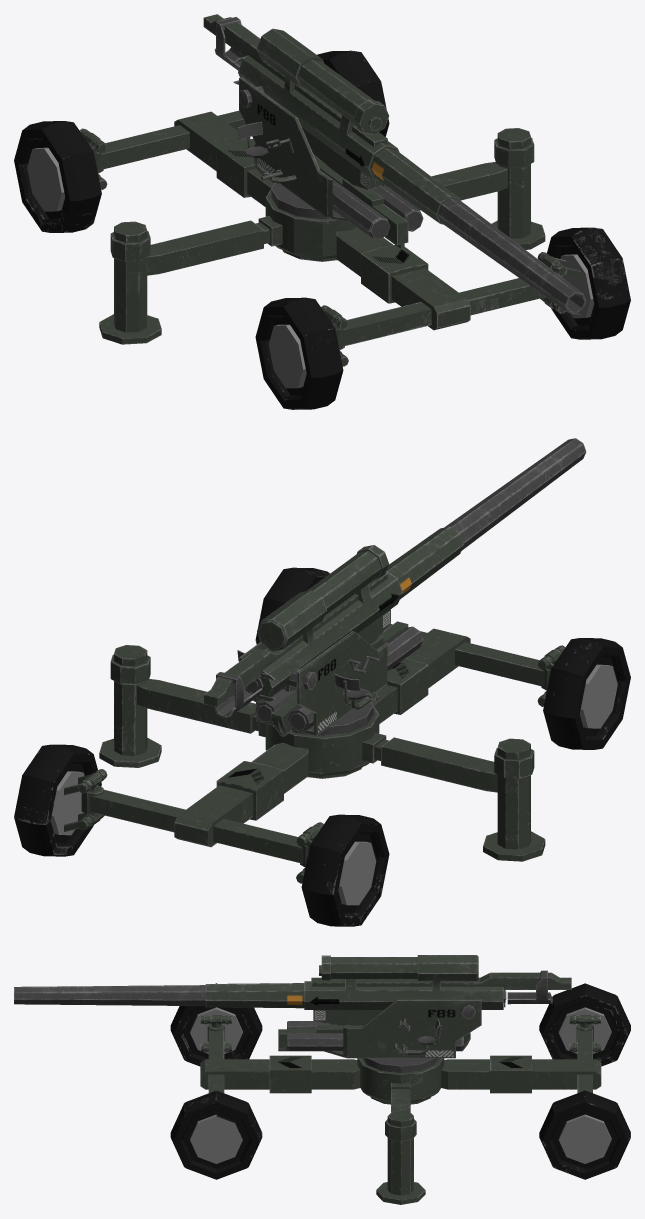
File: Gunmaggedon F88 AAA.fbx
3 renders of one model, top to bottom at view 1: azimuth 30°, elevation 25°; view 2: azimuth 150°, elevation 25°; view 3: azimuth 270°, elevation 25°, orthographic. The views are drawn at different scales.
Visible parts, largest first — view 1: wheels, base, gun, supports, traverse, barrel, traverse.001; view 2: wheels, base, supports, gun, traverse, barrel, traverse.001; view 3: wheels, base, gun, traverse, barrel, supports, traverse.001.
Part boxes in pixels (x1=…): wheels: x1=14, y1=50, x2=630, y2=409; base: x1=79, y1=110, x2=580, y2=366; gun: x1=203, y1=14, x2=460, y2=224; supports: x1=99, y1=128, x2=545, y2=344; traverse: x1=237, y1=77, x2=423, y2=248; barrel: x1=437, y1=198, x2=586, y2=314; traverse.001: x1=271, y1=183, x2=327, y2=218; wheels: x1=14, y1=567, x2=630, y2=926; base: x1=64, y1=624, x2=565, y2=883; supports: x1=99, y1=645, x2=545, y2=861; gun: x1=203, y1=526, x2=464, y2=717; traverse: x1=237, y1=621, x2=423, y2=736; barrel: x1=444, y1=438, x2=586, y2=550; traverse.001: x1=292, y1=701, x2=373, y2=735; wheels: x1=170, y1=983, x2=630, y2=1179; base: x1=200, y1=1015, x2=601, y2=1104; gun: x1=205, y1=955, x2=571, y2=1025; traverse: x1=278, y1=999, x2=481, y2=1058; barrel: x1=14, y1=985, x2=205, y2=1006; supports: x1=376, y1=1082, x2=425, y2=1204; traverse.001: x1=363, y1=1058, x2=438, y2=1072.
Bounding box in the file's own units: 826 × 394 × 1315.
Materials: 4 (4 with a texture image).
